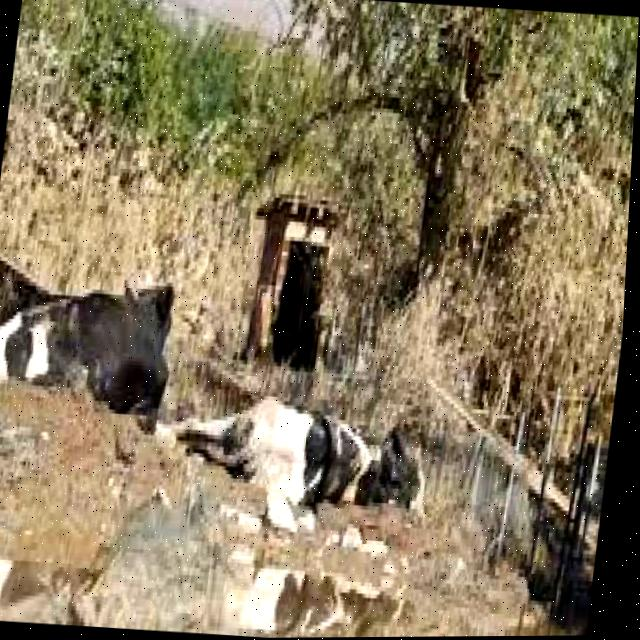cow: (160, 377, 440, 531), (0, 256, 184, 445)
